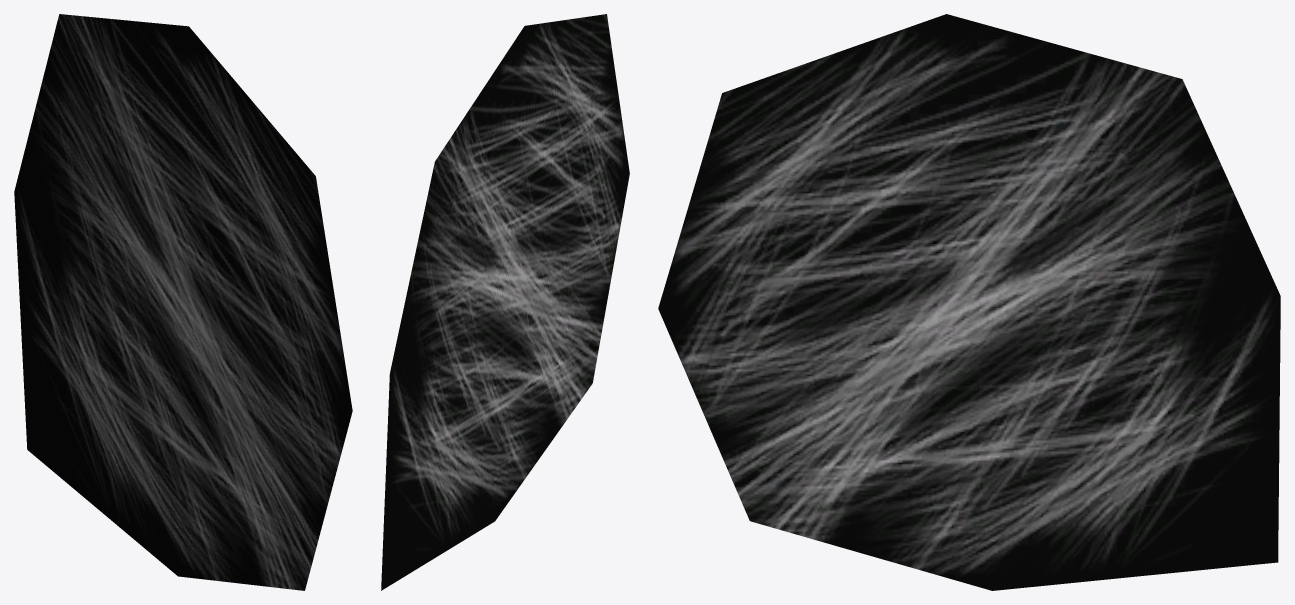
The model's file is DWARF_PALACE_SPIDERWEB_COVERS03.fbx.
The picture shows the model from 3 angles, left to right: view 1: azimuth 30°, elevation 25°; view 2: azimuth 150°, elevation 25°; view 3: azimuth 270°, elevation 25°; orthographic projection. The views are drawn at different scales.
Parts seen in each view (by area): view 1: DWARF_PALACE_SPIDERWEB_COVERS03; view 2: DWARF_PALACE_SPIDERWEB_COVERS03; view 3: DWARF_PALACE_SPIDERWEB_COVERS03.
Part boxes in pixels (x1,y1,x2,y2): DWARF_PALACE_SPIDERWEB_COVERS03: [14, 14, 352, 590]; DWARF_PALACE_SPIDERWEB_COVERS03: [381, 14, 629, 590]; DWARF_PALACE_SPIDERWEB_COVERS03: [658, 14, 1280, 590].
Bounding box in the file's own units: 1598 × 27287 × 26959.
Materials: 1 (1 with a texture image).
